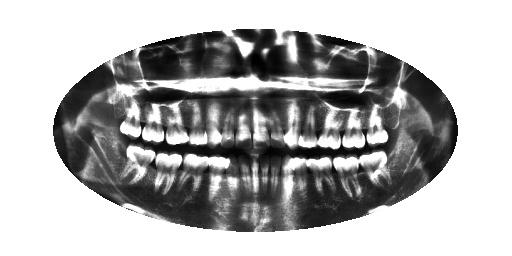Cavity: (267, 153, 284, 205), (250, 153, 260, 200)
Fillings: (253, 102, 271, 150), (235, 108, 253, 151), (270, 105, 286, 150)
